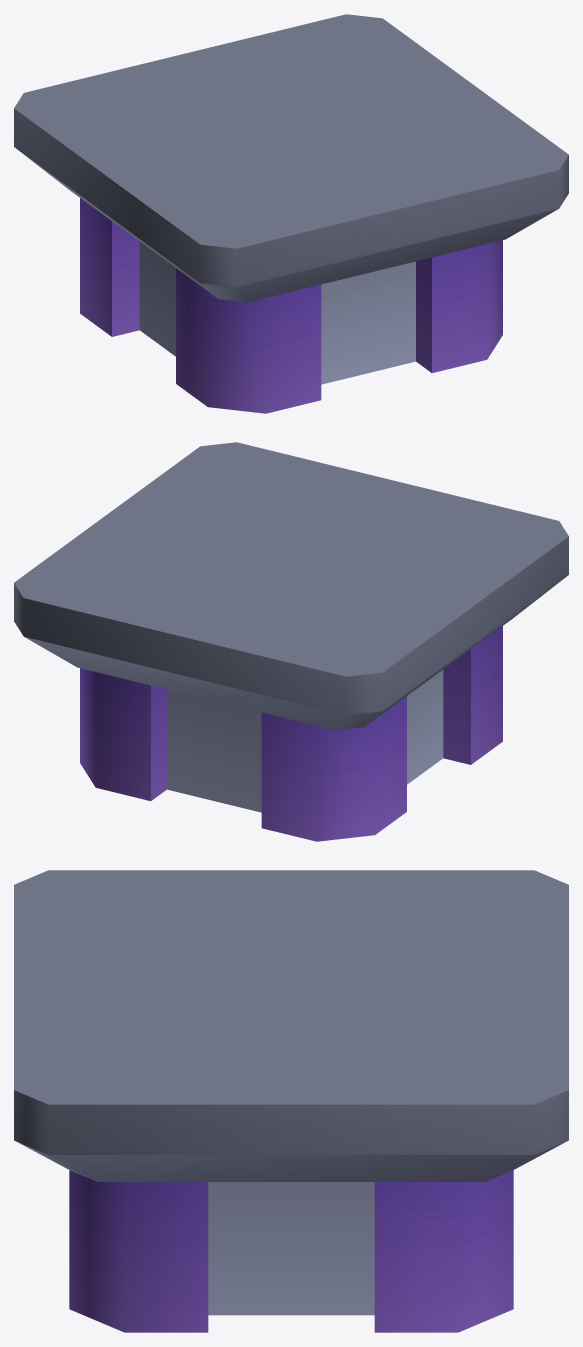
Rendered from tower-square-middle-b.fbx.
The picture shows the model from 3 angles, top to bottom: view 1: azimuth 30°, elevation 25°; view 2: azimuth 150°, elevation 25°; view 3: azimuth 270°, elevation 25°; orthographic projection. The views are drawn at different scales.
Visible parts, largest first — view 1: tower-square-middle-b; view 2: tower-square-middle-b; view 3: tower-square-middle-b.
Part boxes in pixels (x1,y1,x2,y2): tower-square-middle-b: [14, 14, 568, 413]; tower-square-middle-b: [14, 442, 568, 841]; tower-square-middle-b: [14, 870, 568, 1332].
Bounding box in the file's own units: 100 × 50 × 100.
